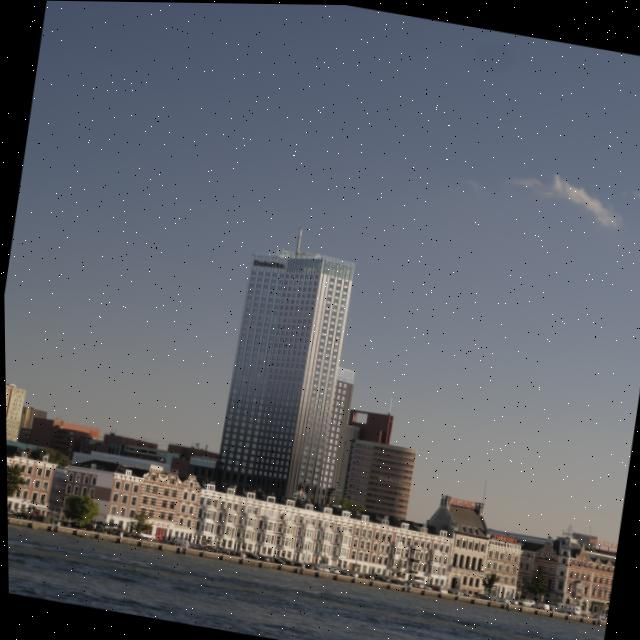building: (6, 421, 621, 620), (209, 241, 376, 507), (334, 401, 425, 519), (6, 377, 30, 441)
